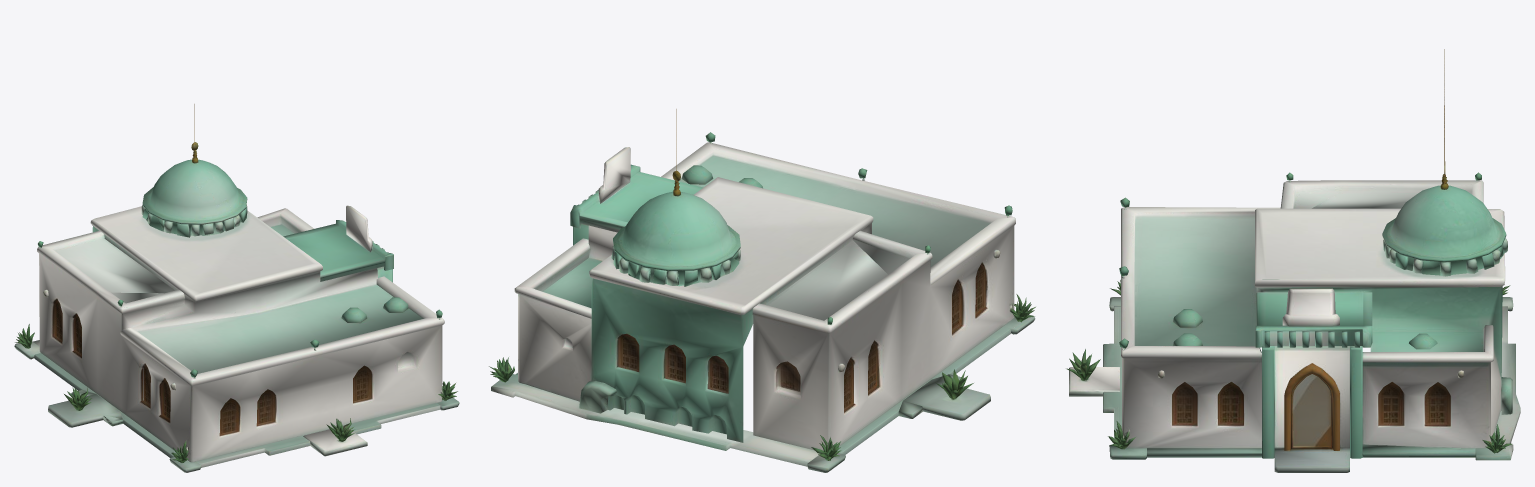
File: village_mosque.glb
3 renders of one model, left to right at view 1: azimuth 30°, elevation 25°; view 2: azimuth 150°, elevation 25°; view 3: azimuth 270°, elevation 25°, orthographic. The views are drawn at different scales.
Visible parts, largest first — view 1: tripo_node_3bafcc9f-c08e-41cf-90c8-1f0019251f21; view 2: tripo_node_3bafcc9f-c08e-41cf-90c8-1f0019251f21; view 3: tripo_node_3bafcc9f-c08e-41cf-90c8-1f0019251f21.
Part boxes in pixels (bbox=[...]): tripo_node_3bafcc9f-c08e-41cf-90c8-1f0019251f21: bbox=[14, 104, 459, 472]; tripo_node_3bafcc9f-c08e-41cf-90c8-1f0019251f21: bbox=[489, 109, 1035, 472]; tripo_node_3bafcc9f-c08e-41cf-90c8-1f0019251f21: bbox=[1066, 49, 1520, 472].
Size of the model in its own units: 0.998 by 0.9004 by 0.9902.
1 material, 1 textured.
